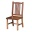chair: (3, 1, 29, 32)
